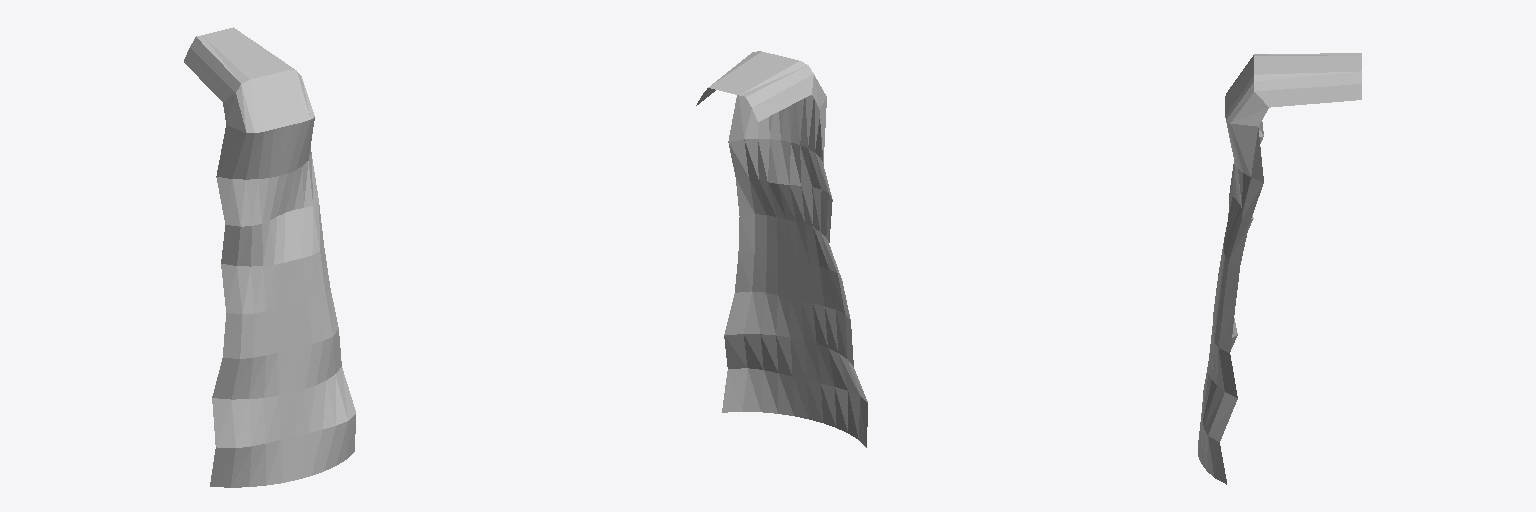
The model's file is Waterfall.obj.
The picture shows the model from 3 angles: view 1: azimuth 30°, elevation 25°; view 2: azimuth 150°, elevation 25°; view 3: azimuth 270°, elevation 25°; orthographic projection.
Visible parts, largest first — view 1: pPlane1; view 2: pPlane1; view 3: pPlane1.
Part boxes in pixels (left/top/right/bottom): pPlane1: left=184, top=27, right=355, bottom=487; pPlane1: left=696, top=51, right=867, bottom=447; pPlane1: left=1198, top=53, right=1361, bottom=484.
Bounding box in the file's own units: 1.52 × 3.89 × 1.5.